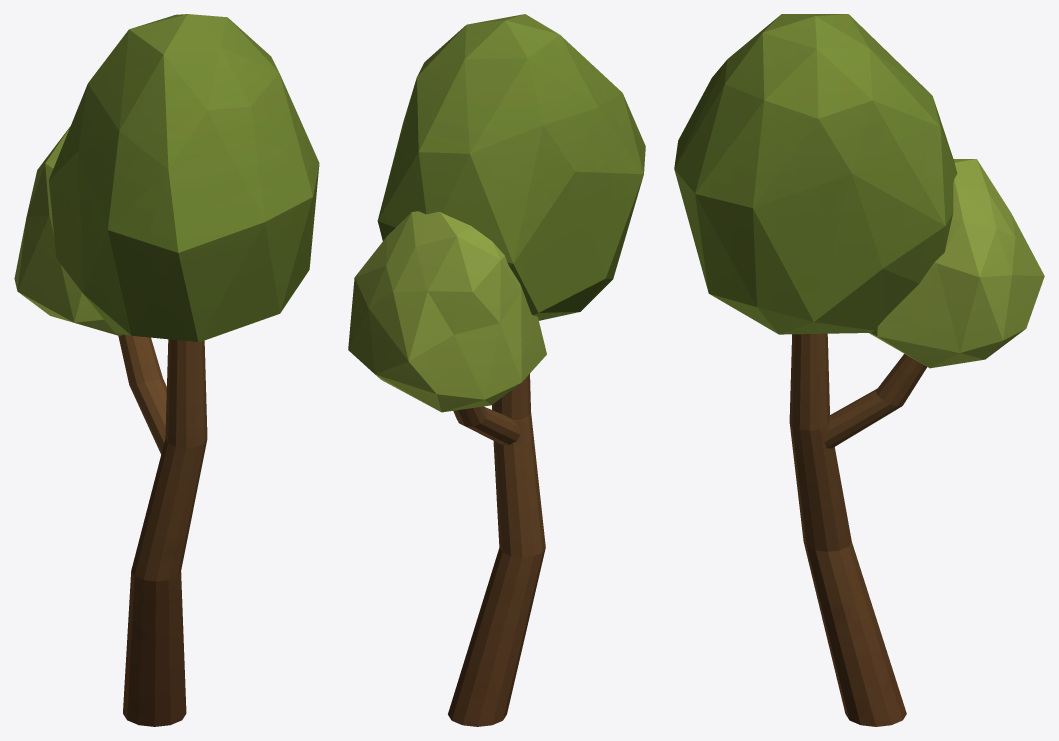
Rendered from beech_tree2.gltf.
3 views of the same model, side by side, from view 1: azimuth 30°, elevation 25°; view 2: azimuth 150°, elevation 25°; view 3: azimuth 270°, elevation 25° (orthographic). The views are drawn at different scales.
Visible parts, largest first — view 1: Beechtree2; view 2: Beechtree2; view 3: Beechtree2.
Boxes of the visible parts, x1,y1,x2,y2 form: Beechtree2: (14,14,319,726); Beechtree2: (348,14,645,726); Beechtree2: (674,14,1044,726).
Size of the model in its own units: 4.68 by 14.77 by 7.1.
Materials: 1 (1 with a texture image).
